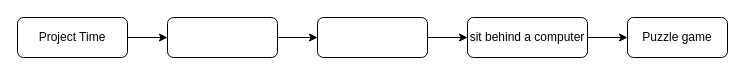
Image size: 745x75. Some labels were removed from this diagram. The centre of each missing label's shape, as x and y in pixels:
Go to project room: point 222,37
Lock the room with scanning card: point 372,37
